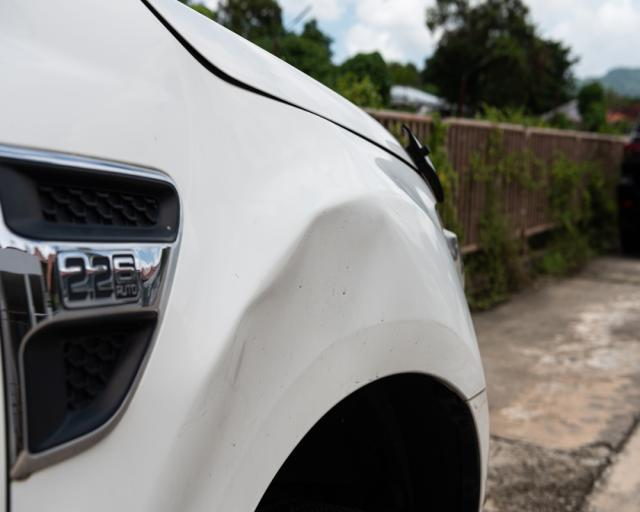dent: (175, 201, 401, 512)
